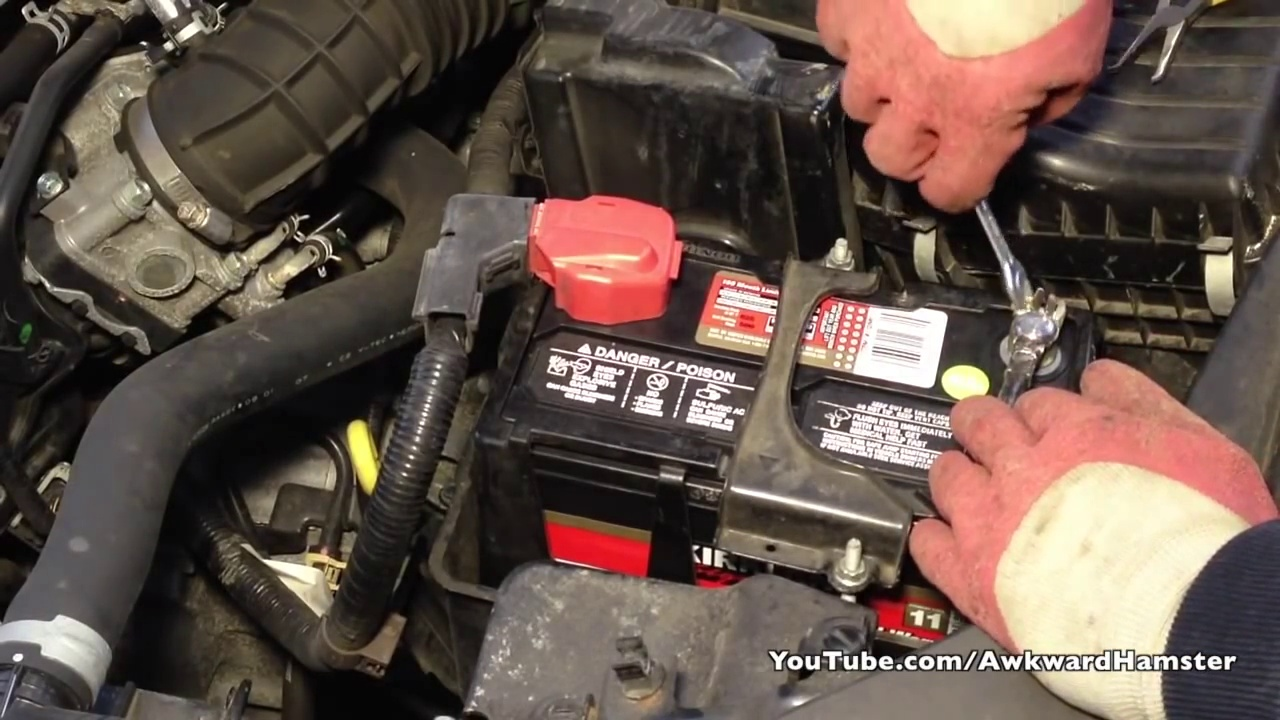battery: (473, 219, 1093, 525)
neg_connected: (978, 259, 1073, 408)
neg_touched: (951, 288, 1107, 489)
pos_connected: (467, 163, 713, 346)
